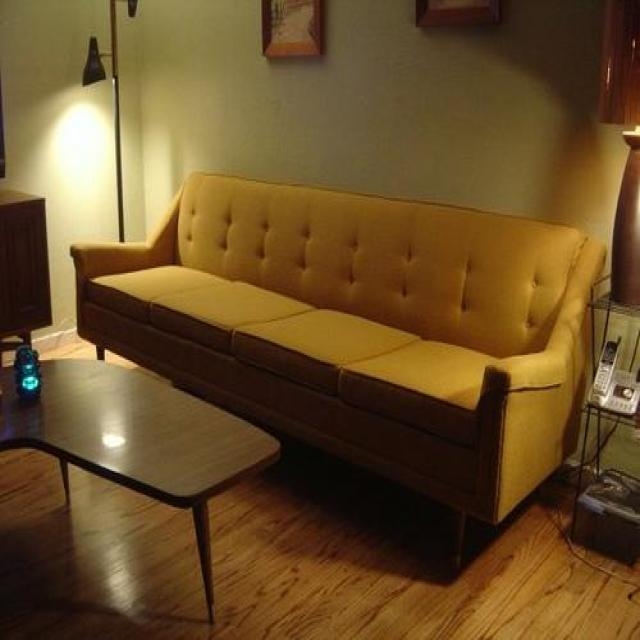sofa: (69, 166, 610, 584)
